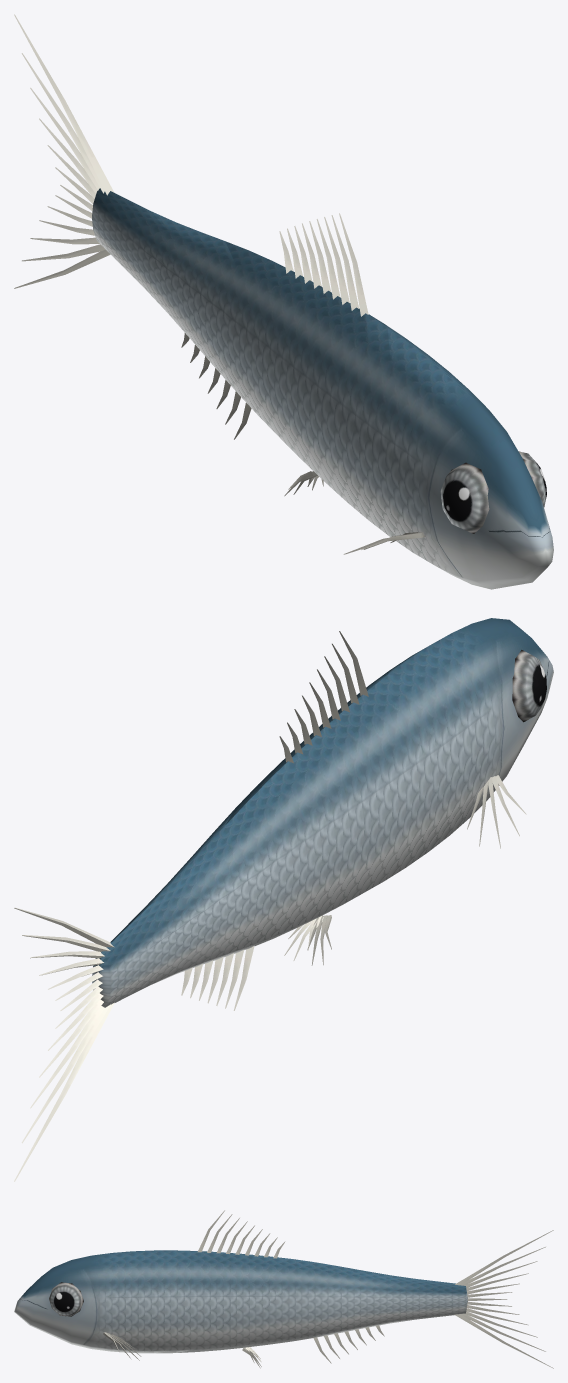
The model's file is bonefin-herring.glb.
3 views of the same model, one above another, from view 1: azimuth 30°, elevation 25°; view 2: azimuth 150°, elevation 25°; view 3: azimuth 270°, elevation 25° (orthographic). The views are drawn at different scales.
Parts seen in each view (by area): view 1: bonefin-herring; view 2: bonefin-herring; view 3: bonefin-herring.
Part boxes in pixels (<box>): bonefin-herring: <box>14,14,553,589</box>; bonefin-herring: <box>14,618,553,1181</box>; bonefin-herring: <box>14,1210,553,1368</box>.
Bounding box in the file's own units: 0.191 × 0.3241 × 1.
Materials: 1 (1 with a texture image).
